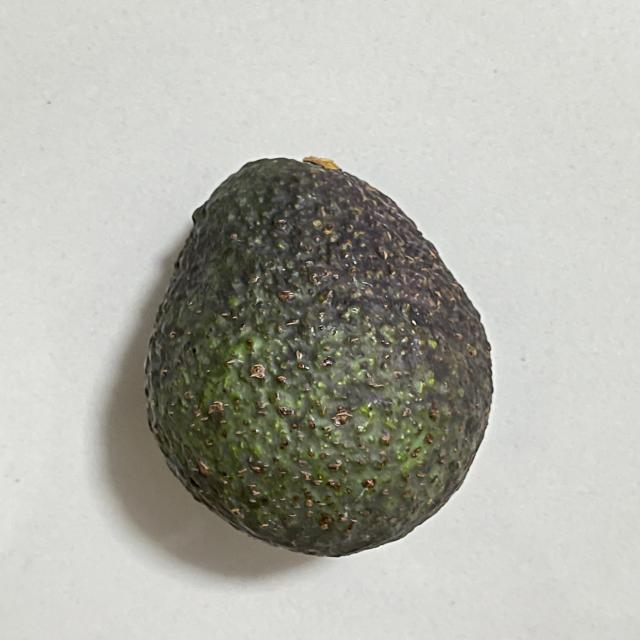avocado: (129, 140, 523, 569)
